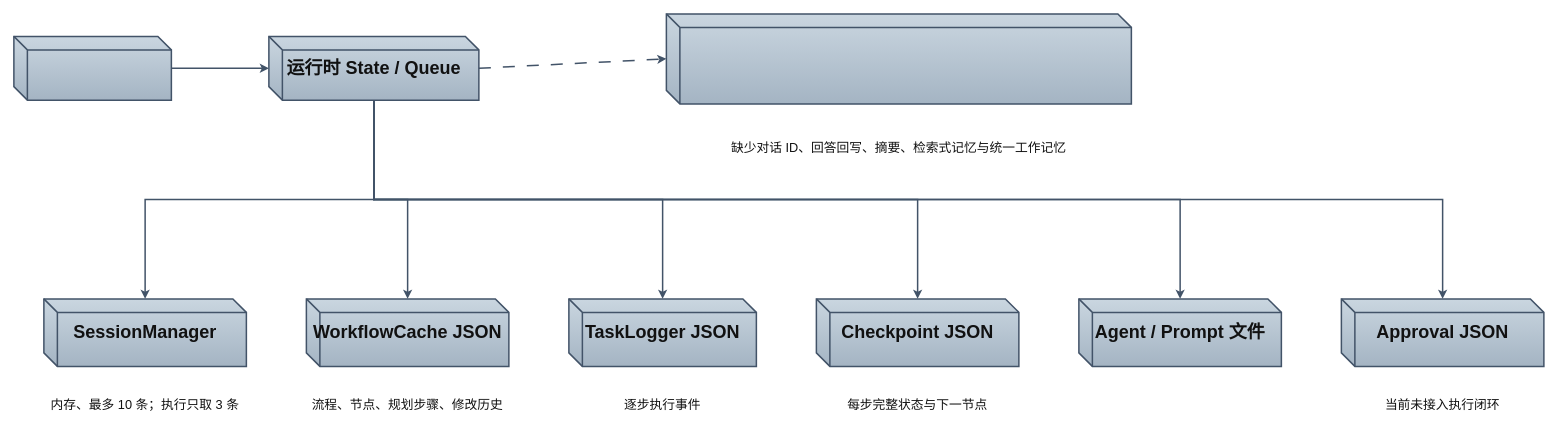
Image size: 1557x429. Some labels were removed from this diagram. Each missing label, with the box of its shape:
当前没有真正的长期记忆系统: (665, 13, 1132, 104)
请求 / 工作流执行: (13, 35, 172, 100)
